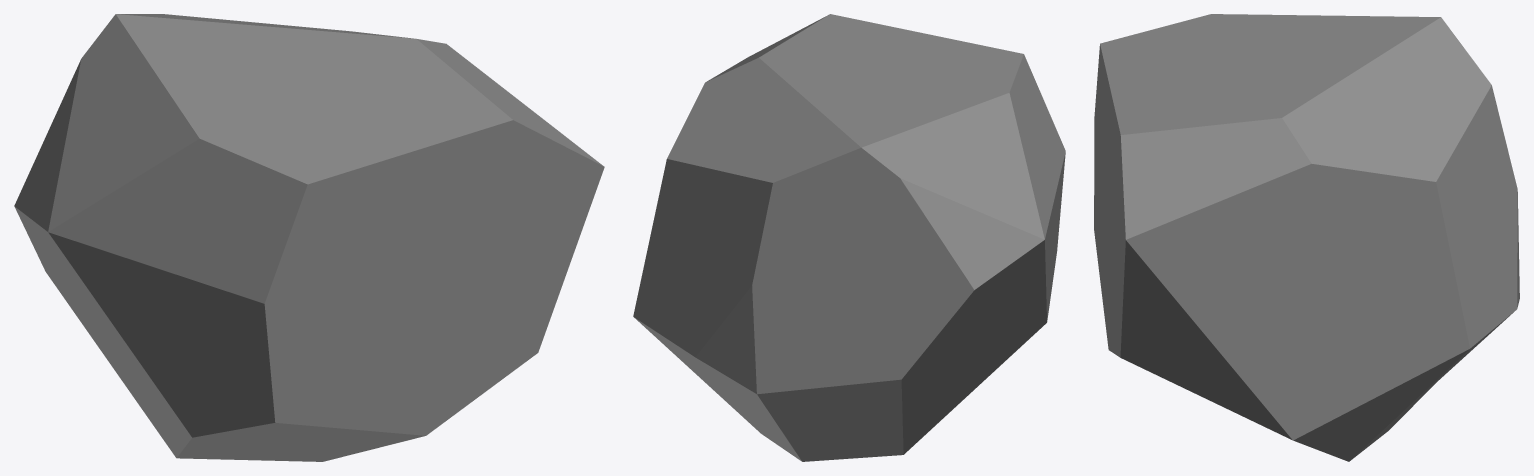
The model's file is Rock10.fbx.
The picture shows the model from 3 angles, left to right: view 1: azimuth 30°, elevation 25°; view 2: azimuth 150°, elevation 25°; view 3: azimuth 270°, elevation 25°; orthographic projection. The views are drawn at different scales.
Parts seen in each view (by area): view 1: Cube.008; view 2: Cube.008; view 3: Cube.008.
Boxes of the visible parts, <box> form: Cube.008: <box>14,14,604,461</box>; Cube.008: <box>633,14,1065,461</box>; Cube.008: <box>1094,14,1519,461</box>.
Size of the model in its own units: 3051 by 2685 by 2793.
